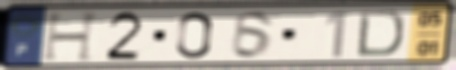0: (174, 11, 215, 60)
1: (324, 9, 349, 59)
2: (105, 10, 147, 62)
6: (228, 10, 278, 59)
D: (353, 8, 407, 59)
H: (40, 10, 105, 63)
